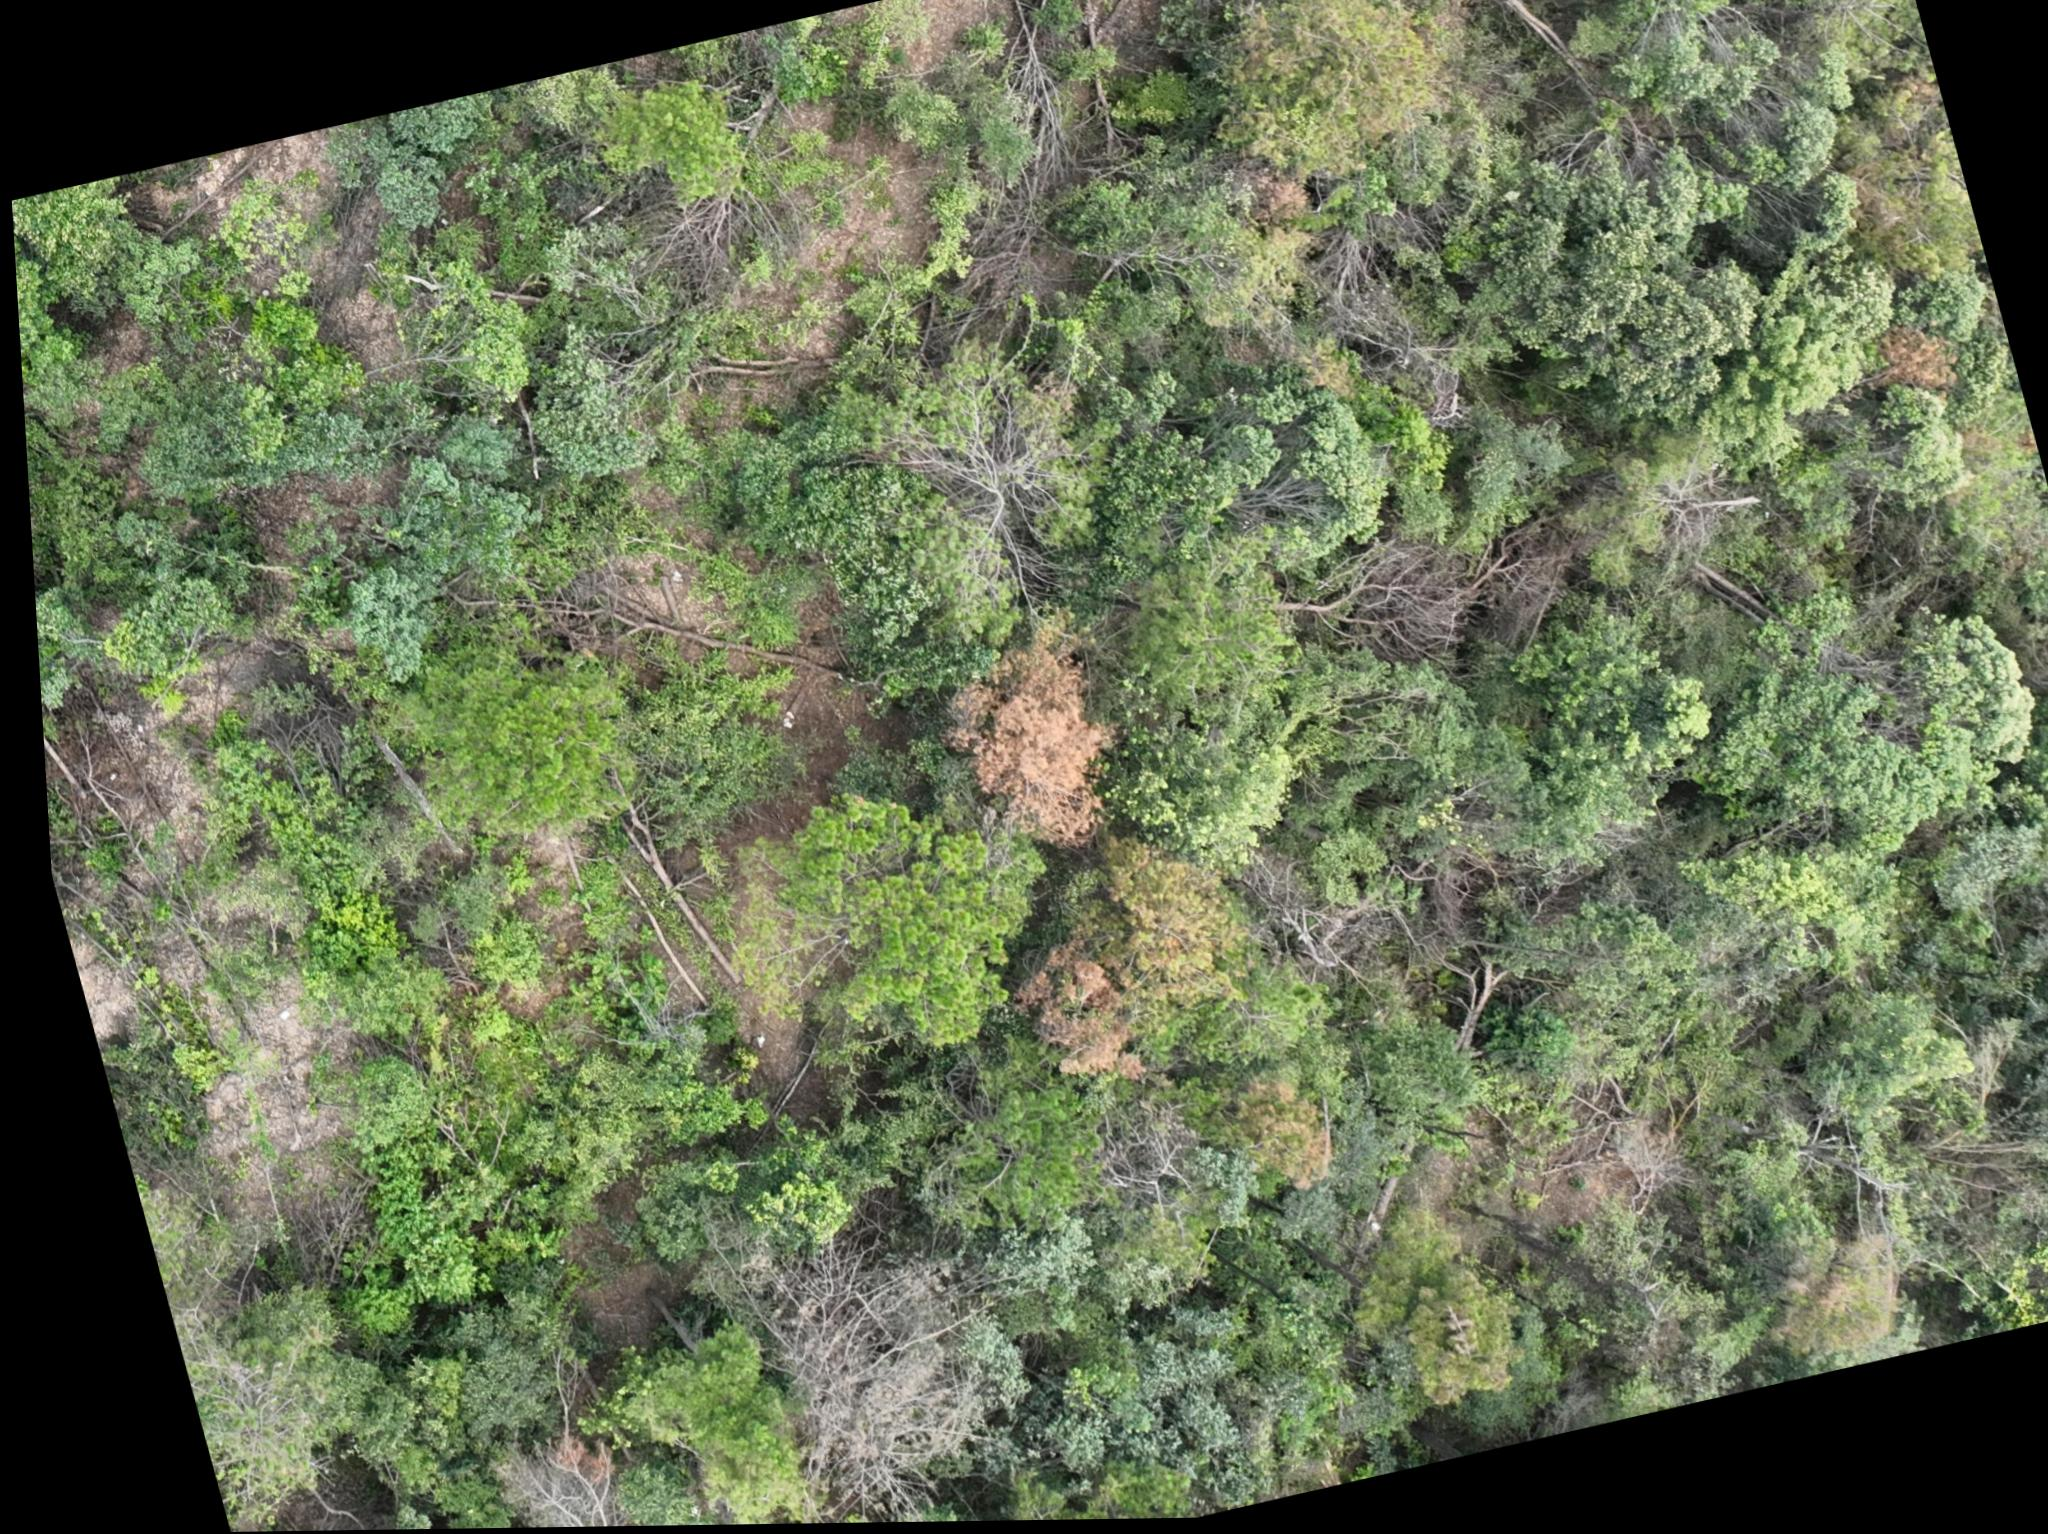dead: (738, 1215, 1028, 1502), (469, 1421, 611, 1529)
heavy: (917, 628, 1126, 867), (999, 941, 1139, 1096)
